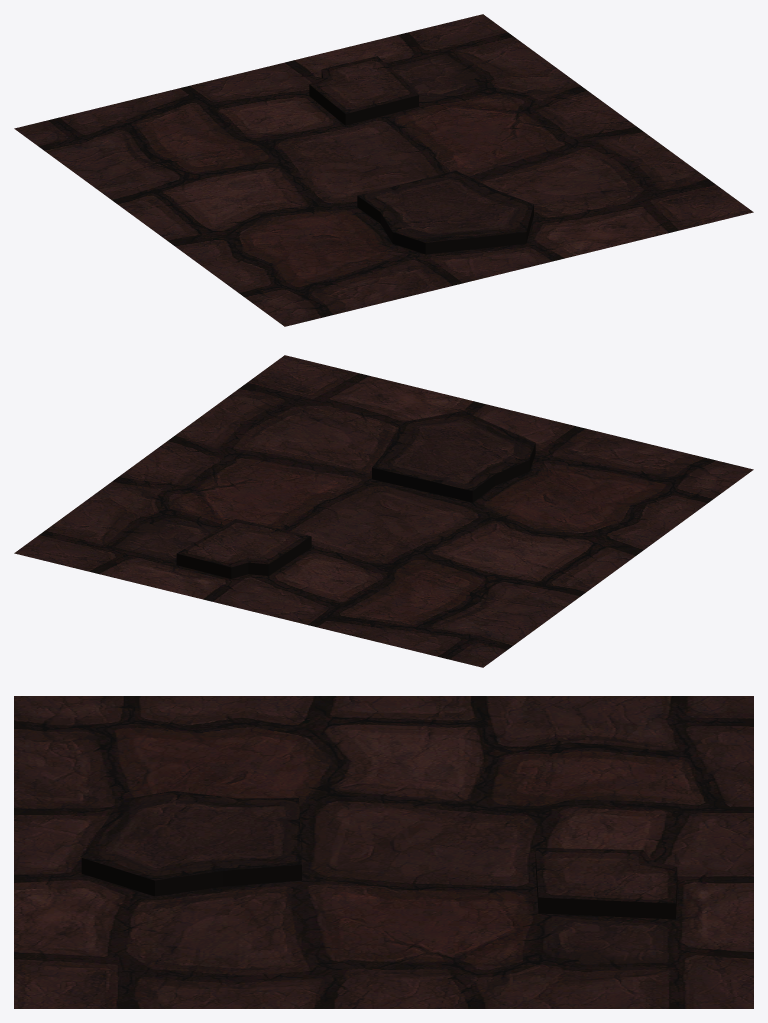
Rendered from lava_floor_blank_07.fbx.
3 views of the same model, one above another, from view 1: azimuth 30°, elevation 25°; view 2: azimuth 150°, elevation 25°; view 3: azimuth 270°, elevation 25° (orthographic). The views are drawn at different scales.
Visible parts, largest first — view 1: lava_tileset/lava_floor01_shadow; view 2: lava_tileset/lava_floor01_shadow; view 3: lava_tileset/lava_floor01_shadow.
Part boxes in pixels (bbox=[...]): lava_tileset/lava_floor01_shadow: bbox=[14, 14, 753, 326]; lava_tileset/lava_floor01_shadow: bbox=[14, 355, 753, 667]; lava_tileset/lava_floor01_shadow: bbox=[14, 696, 753, 1008].
Size of the model in its own units: 4 by 0.095 by 4.
